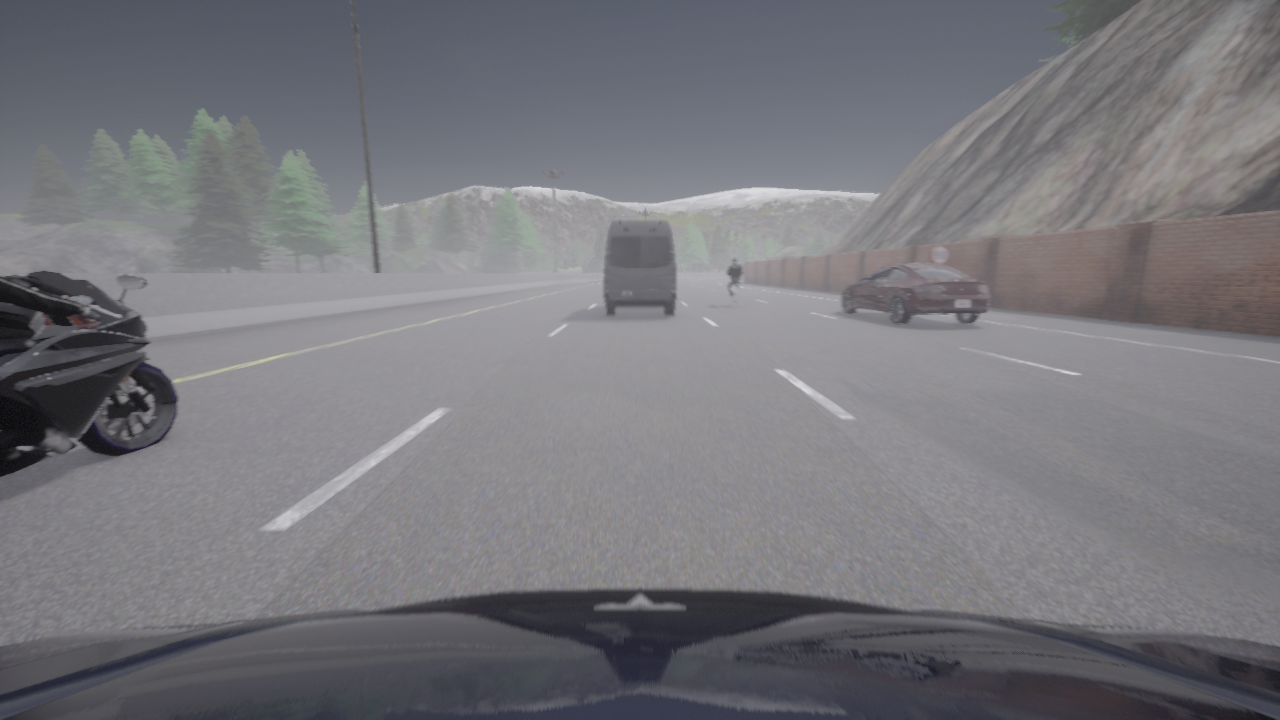cyclist: (0, 588, 1279, 719), (0, 269, 177, 477), (842, 263, 989, 323), (604, 220, 676, 314), (728, 284, 737, 304)
